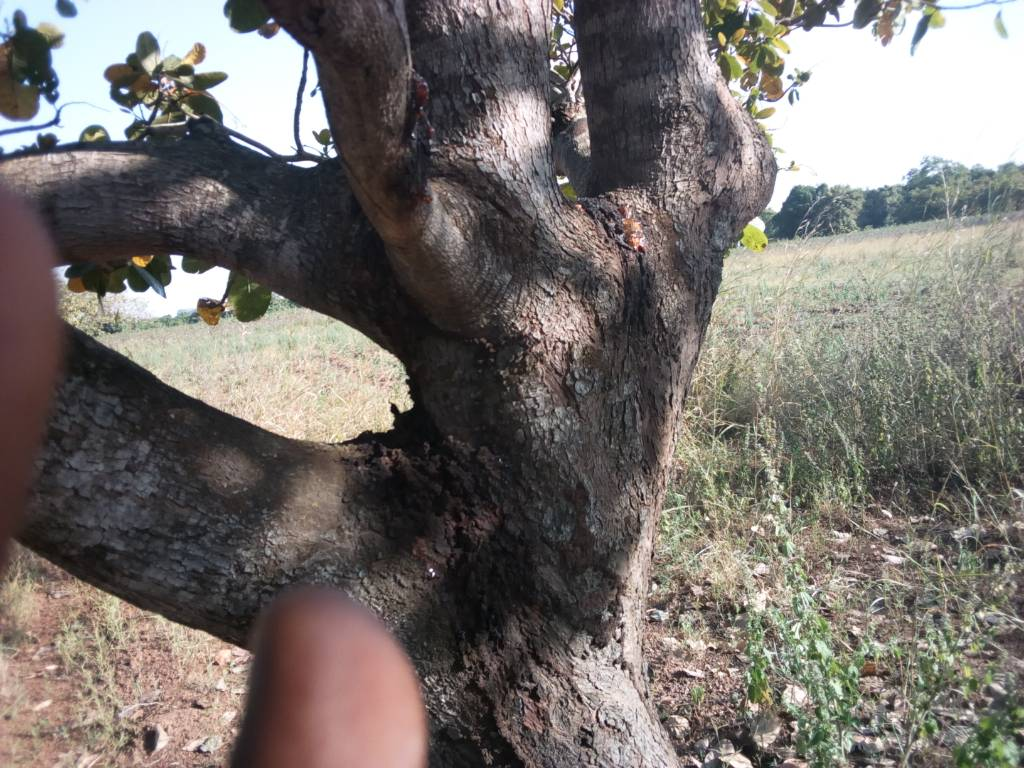Termites: (385, 427, 632, 641)
